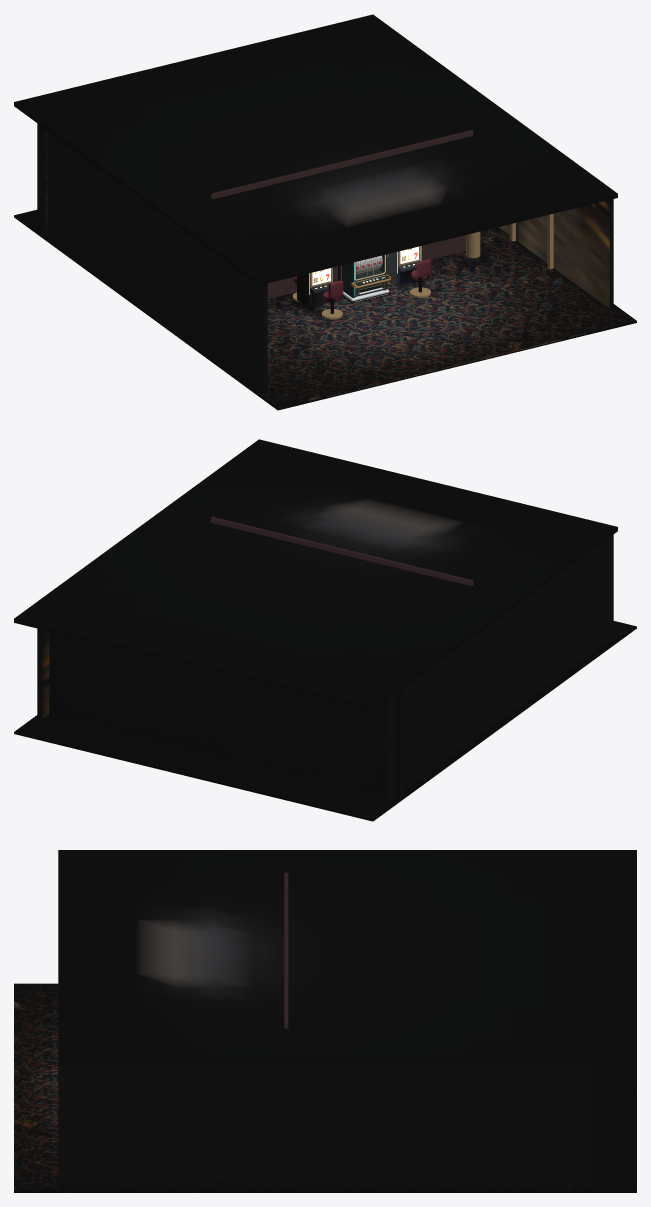
Rendered from palace_atrium.glb.
The picture shows the model from 3 angles, top to bottom: view 1: azimuth 30°, elevation 25°; view 2: azimuth 150°, elevation 25°; view 3: azimuth 270°, elevation 25°; orthographic projection. The views are drawn at different scales.
Parts seen in each view (by area): view 1: Casino_Casino Recessed charcoal ceiling, Casino_Casino Woven casino carpet, Casino_Casino Warm woven wall panels, Lounge_Velvet, Casino_Casino Brushed champagne bronze, Casino_Casino Graphite cabinet, Cabinet_Enamel, Casino_Casino Oxblood leather; view 2: Casino_Casino Recessed charcoal ceiling, Casino_Casino Warm woven wall panels, Casino_Casino Woven casino carpet, Lounge_Velvet; view 3: Casino_Casino Recessed charcoal ceiling, Casino_Casino Warm woven wall panels, Casino_Casino Woven casino carpet, Lounge_Velvet.
Part boxes in pixels (bbox=[...]): Casino_Casino Recessed charcoal ceiling: bbox=[14, 14, 617, 285]; Casino_Casino Woven casino carpet: bbox=[14, 210, 636, 410]; Casino_Casino Warm woven wall panels: bbox=[37, 123, 613, 393]; Lounge_Velvet: bbox=[211, 130, 473, 298]; Casino_Casino Brushed champagne bronze: bbox=[292, 213, 553, 319]; Casino_Casino Graphite cabinet: bbox=[297, 252, 482, 313]; Cabinet_Enamel: bbox=[339, 263, 389, 296]; Casino_Casino Oxblood leather: bbox=[294, 259, 431, 302]; Casino_Casino Recessed charcoal ceiling: bbox=[14, 439, 617, 710]; Casino_Casino Warm woven wall panels: bbox=[37, 534, 613, 804]; Casino_Casino Woven casino carpet: bbox=[14, 621, 636, 821]; Lounge_Velvet: bbox=[211, 517, 473, 586]; Casino_Casino Recessed charcoal ceiling: bbox=[58, 850, 636, 1061]; Casino_Casino Warm woven wall panels: bbox=[58, 1061, 592, 1190]; Casino_Casino Woven casino carpet: bbox=[14, 983, 636, 1192]; Lounge_Velvet: bbox=[284, 872, 288, 1028].
Size of the model in its own units: 11 by 3.52 by 14.
Materials: 25 (5 with a texture image).
